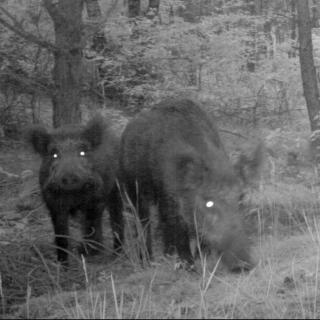Pig: (120, 90, 272, 276), (15, 93, 116, 272)
